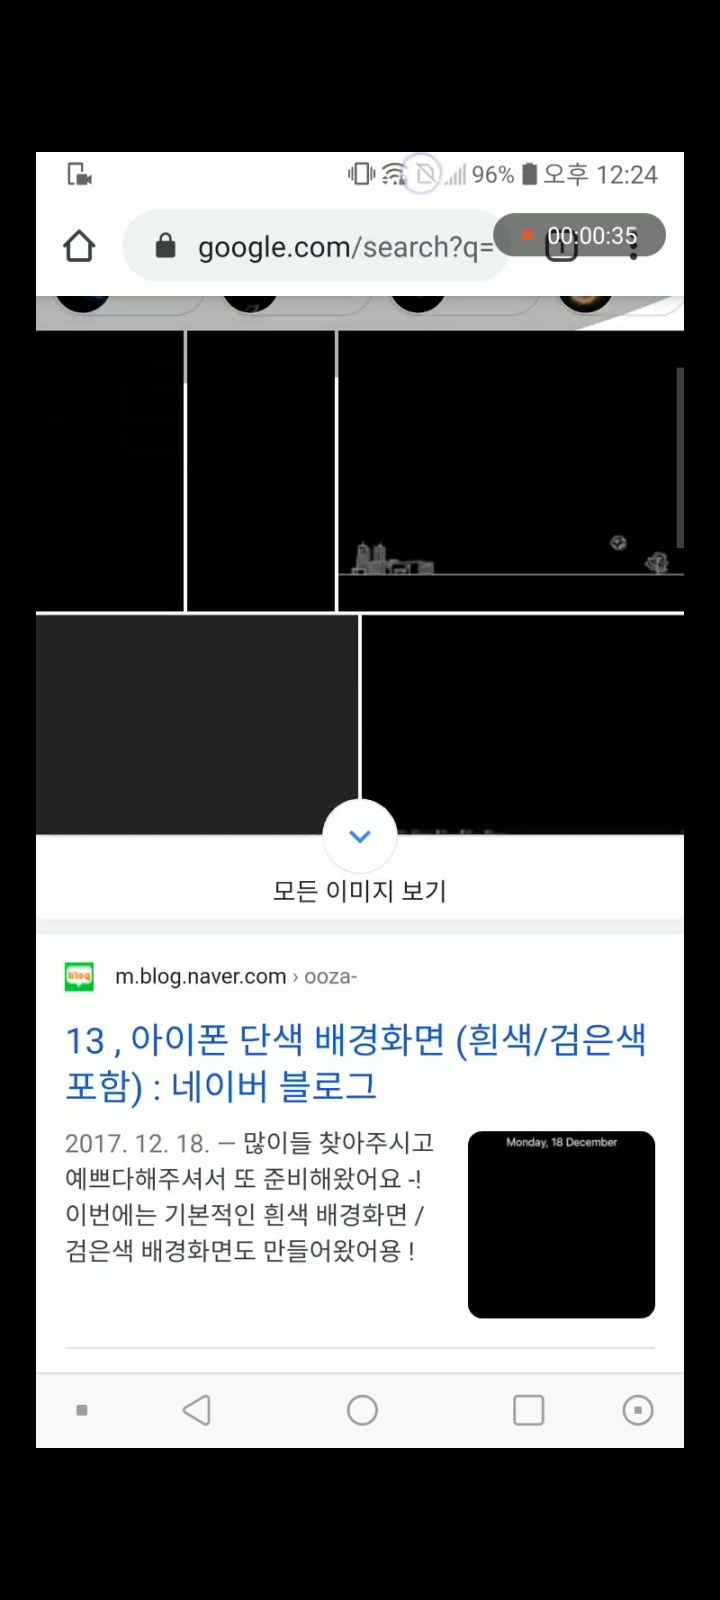Cursor: (400, 153, 445, 197)
